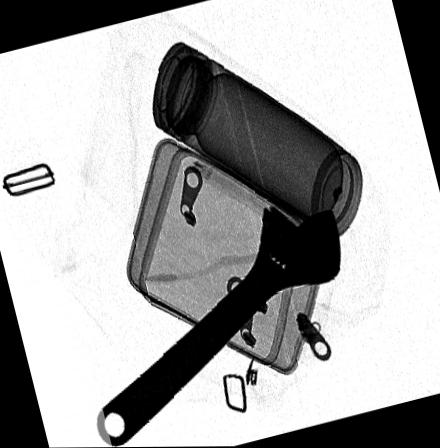Wrench: (94, 203, 342, 447)
